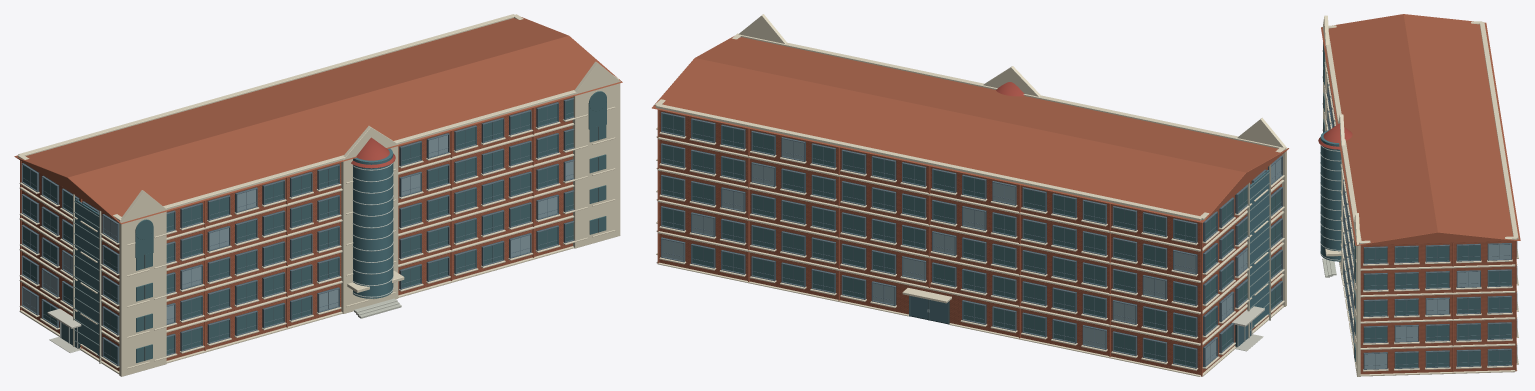
Rendered from music.glb.
3 renders of one model, left to right at view 1: azimuth 30°, elevation 25°; view 2: azimuth 150°, elevation 25°; view 3: azimuth 270°, elevation 25°, orthographic. The views are drawn at different scales.
Visible parts, largest first — view 1: music_body_ab654b, music_stone_e5ddc6, music_glass_4e7277, music_body_b46b50, music, music_cylinder_547d86, music_glass_90a8b0, music_glass_547c86, music_body_e5ddc6, music_stone_b46b50, music_cylinder_bcc5be, music_frames_d5d3bf (+3 smaller); view 2: music_body_ab654b, music_body_b46b50, music_glass_4e7277, music, music_stone_e5ddc6, music_glass_90a8b0, music_glass_547c86, music_stone_b46b50, music_body_e5ddc6, music_glass_52737d, music_frames_d5d3bf; view 3: music_body_ab654b, music_body_b46b50, music_stone_e5ddc6, music_glass_4e7277, music, music_cylinder_547d86, music_glass_90a8b0, music_stone_b46b50, music_body_e5ddc6, music_cone_a34e42, music_cylinder_bcc5be, music_stone_c9ccc0.
Boxes of the visible parts, x1,y1,x2,y2 form: music_body_ab654b: [14, 17, 622, 224]; music_stone_e5ddc6: [18, 14, 620, 376]; music_glass_4e7277: [23, 99, 606, 363]; music_body_b46b50: [21, 96, 572, 370]; music: [21, 97, 574, 366]; music_cylinder_547d86: [353, 148, 393, 298]; music_glass_90a8b0: [23, 135, 573, 323]; music_glass_547c86: [75, 199, 101, 356]; music_body_e5ddc6: [120, 61, 620, 222]; music_stone_b46b50: [20, 107, 534, 350]; music_cylinder_bcc5be: [352, 163, 393, 297]; music_frames_d5d3bf: [73, 194, 101, 363]; music_body_ab654b: [652, 36, 1288, 222]; music_body_b46b50: [659, 110, 1281, 374]; music_glass_4e7277: [662, 114, 1281, 367]; music: [661, 112, 1282, 368]; music_stone_e5ddc6: [654, 33, 1286, 376]; music_glass_90a8b0: [662, 139, 1281, 364]; music_glass_547c86: [1247, 170, 1269, 327]; music_stone_b46b50: [657, 110, 1251, 376]; music_body_e5ddc6: [738, 14, 1287, 148]; music_glass_52737d: [910, 296, 1250, 346]; music_frames_d5d3bf: [1247, 164, 1270, 338]; music_body_ab654b: [1321, 14, 1520, 245]; music_body_b46b50: [1360, 241, 1515, 374]; music_stone_e5ddc6: [1322, 21, 1518, 376]; music_glass_4e7277: [1323, 50, 1510, 367]; music: [1326, 68, 1517, 369]; music_cylinder_547d86: [1320, 130, 1341, 261]; music_glass_90a8b0: [1329, 119, 1510, 368]; music_stone_b46b50: [1452, 241, 1516, 372]; music_body_e5ddc6: [1322, 15, 1360, 244]; music_cone_a34e42: [1318, 123, 1352, 149]; music_cylinder_bcc5be: [1320, 145, 1341, 260]; music_stone_c9ccc0: [1322, 258, 1336, 277].
Size of the model in its own units: 65.7 by 21.03 by 25.
27 materials, 1 textured.
